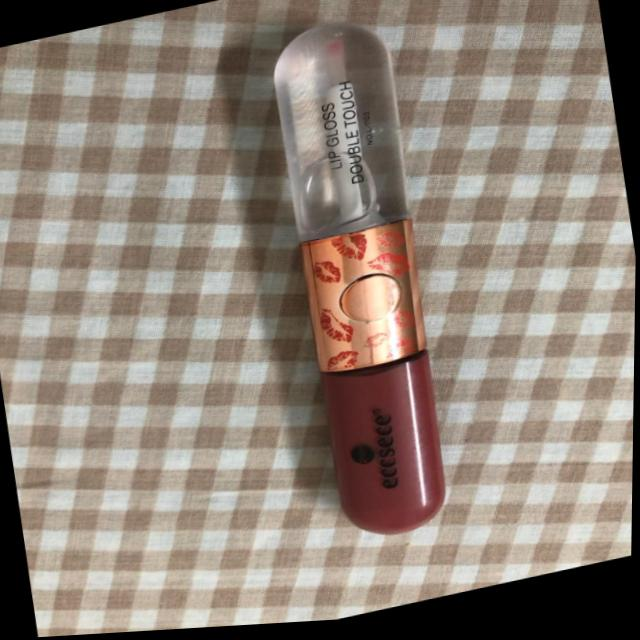lip gloss: (212, 0, 504, 600)
